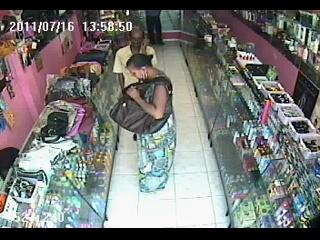Normal: (126, 54, 176, 193), (109, 78, 172, 135), (112, 28, 158, 91), (145, 10, 165, 46), (76, 50, 109, 65)
